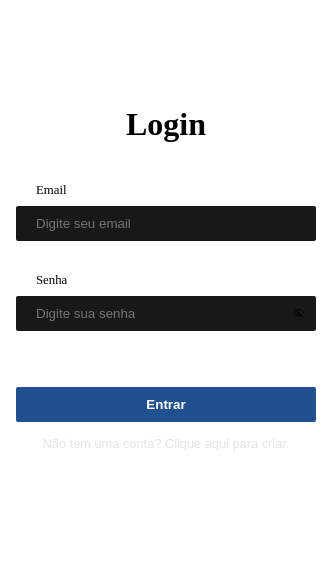
Test: authentication.cy.tsx › Changes the current form
Click the button with test id "change-form": coordinates (166, 444) [16,426,316,461]
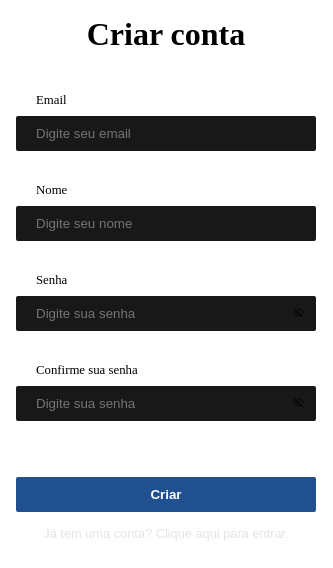
Expected: the heading "Criar conta" is shown, [87,16,245,53]
Click the button with test id "change-form": coordinates (166, 534) [16,516,316,551]
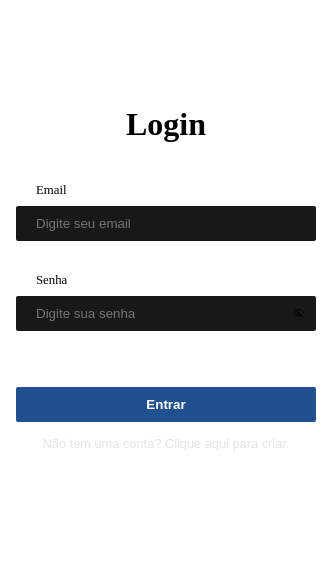
Expected: the heading "Login" is shown, [126,106,206,143]
